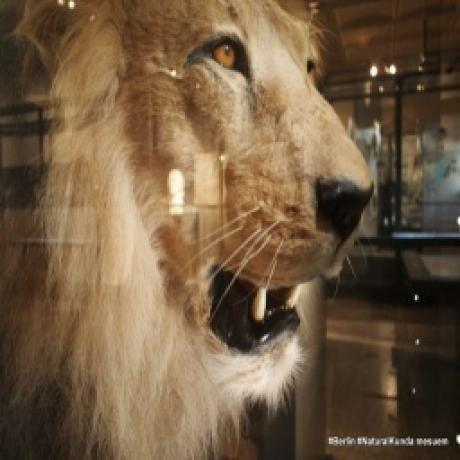Lion: (49, 0, 379, 460)
